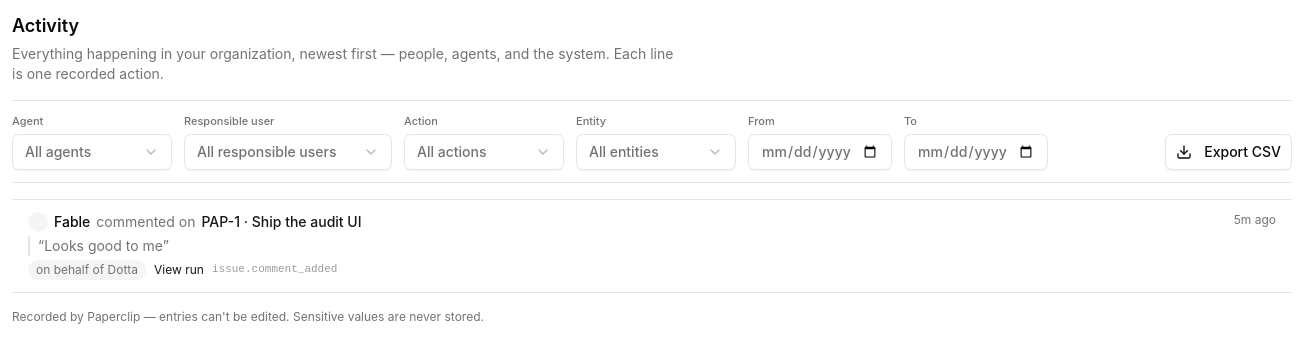
Scenario: AuditFeed › clears privileged filters and recovers the basic feed after an access downgrade
The width and height of the screenshot is (1304, 341).
Click the dropdown labelled "All agents".
click(92, 152)  # box left=12, top=134, right=172, bottom=170
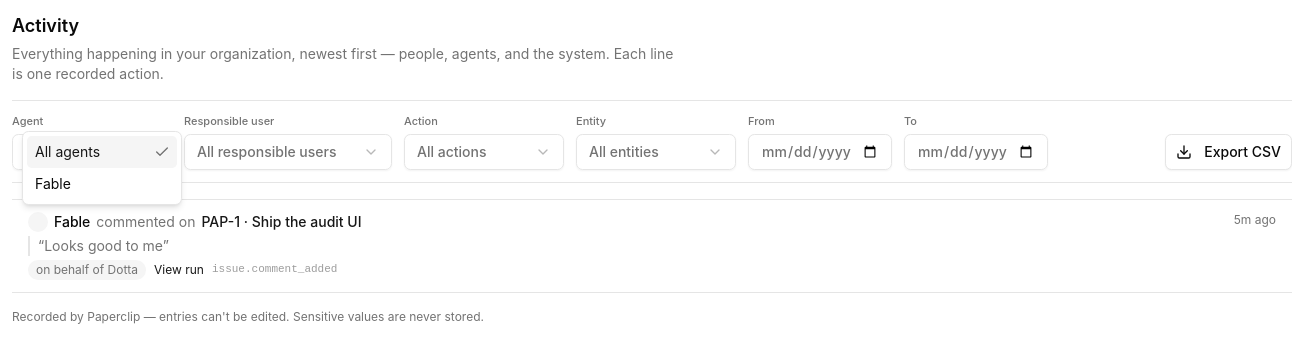
Check: the option "Fable" is shown
Click the option "Fable".
click(53, 183)  # box left=35, top=174, right=71, bottom=192
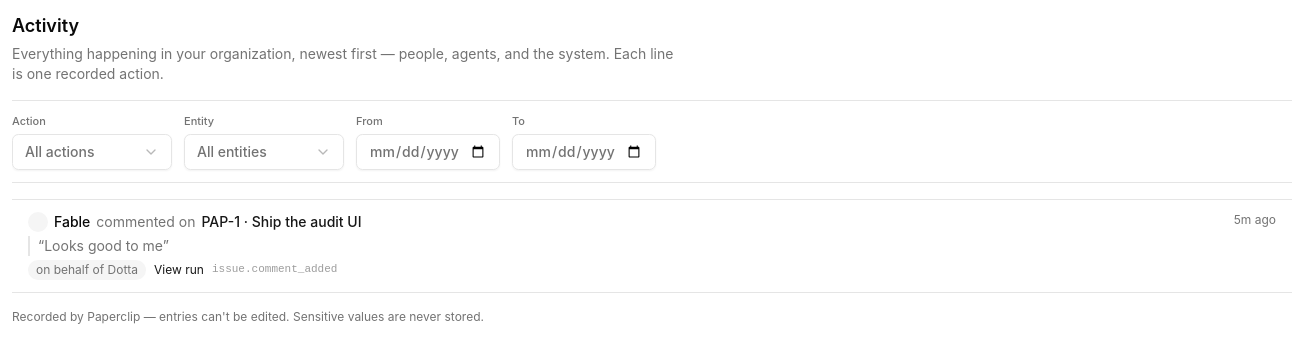
Check: the text "commented on" is shown, box left=96, top=212, right=195, bottom=232
Check: the text "All agents" is gone
Check: the text "Export CSV" is gone
